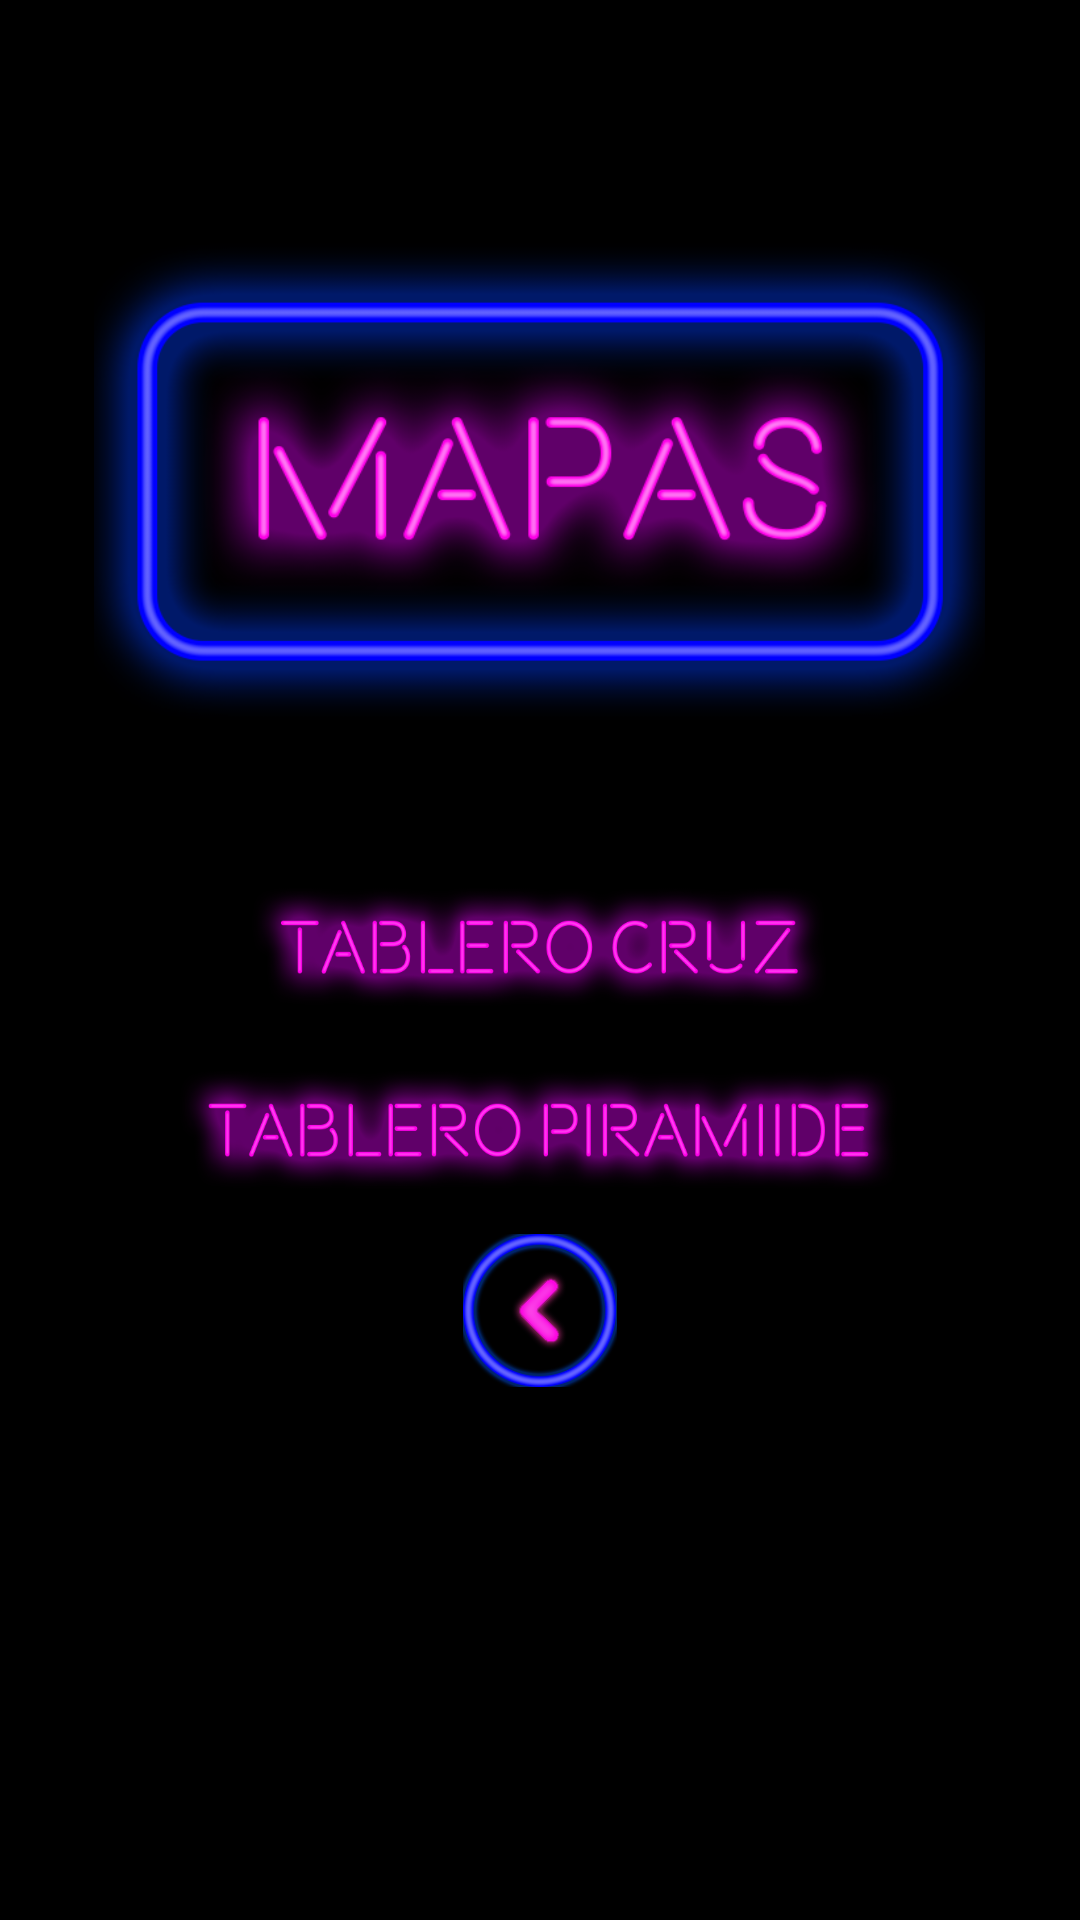

Where to tap for icons on this 1080×1920 app screen, as (x,y):
Atras: (540,1310)
